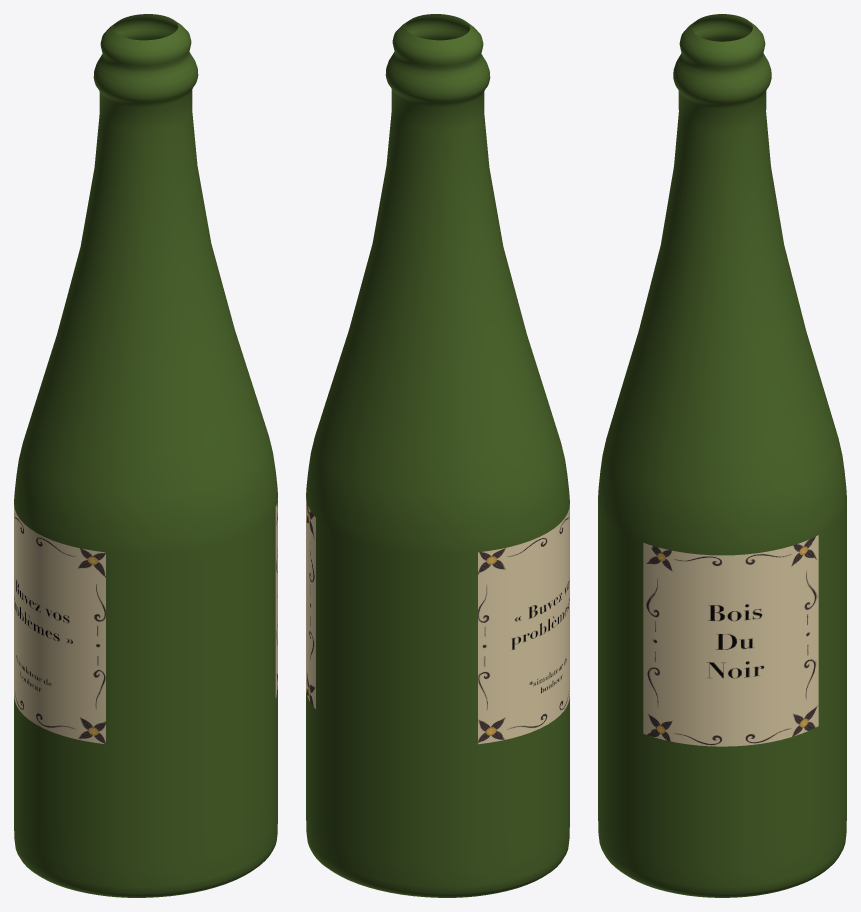
Rendered from boueille path of match 2.fbx.
The picture shows the model from 3 angles, left to right: view 1: azimuth 30°, elevation 25°; view 2: azimuth 150°, elevation 25°; view 3: azimuth 270°, elevation 25°; orthographic projection.
Parts seen in each view (by area): view 1: bouteille 2; view 2: bouteille 2; view 3: bouteille 2.
Part boxes in pixels (x1,y1,x2,y2): bouteille 2: [14, 14, 277, 897]; bouteille 2: [306, 14, 569, 897]; bouteille 2: [598, 14, 846, 897].
Bounding box in the file's own units: 122 × 412 × 113.
3 materials, 2 textured.
